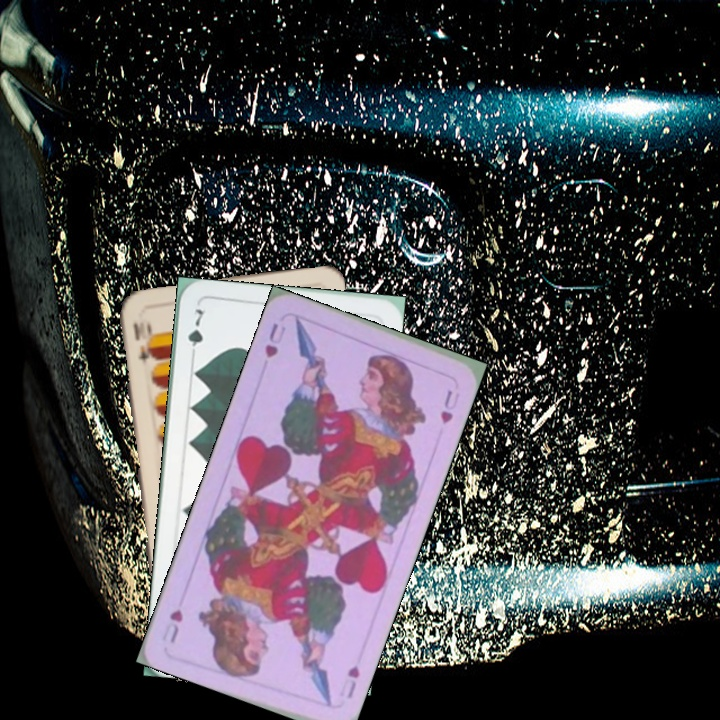E10: (129, 318, 158, 369)
G7: (183, 304, 208, 362)
HU: (260, 319, 289, 361), (343, 660, 363, 701)
